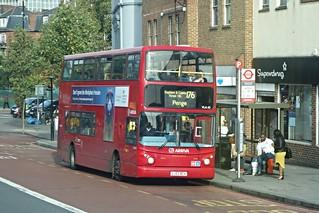bus: (58, 48, 215, 181)
